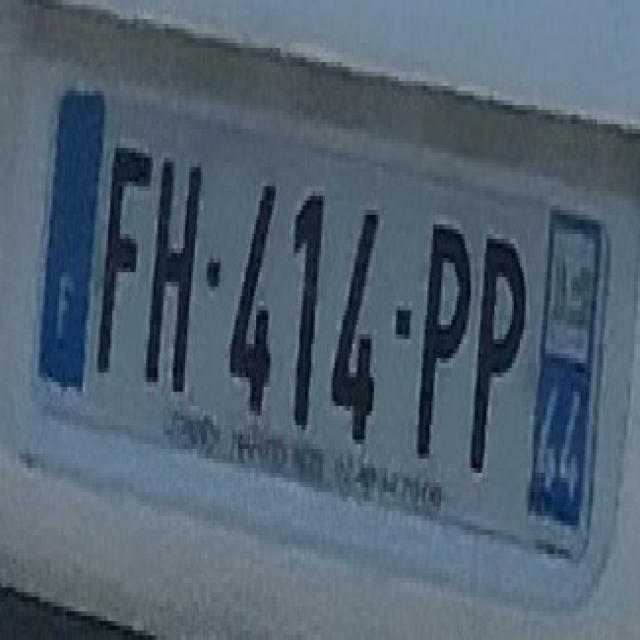EU: (25, 80, 626, 581)
France: (30, 90, 105, 402)
